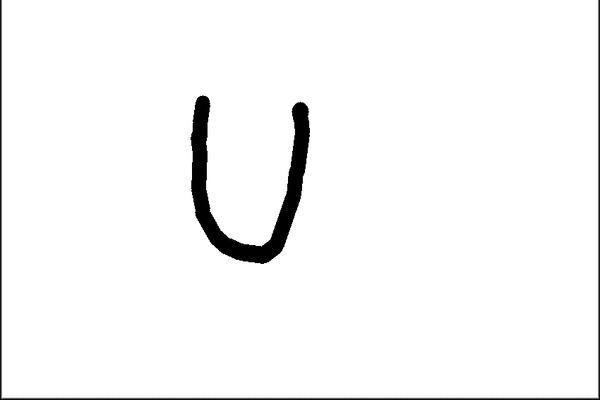U: (173, 89, 322, 268)
